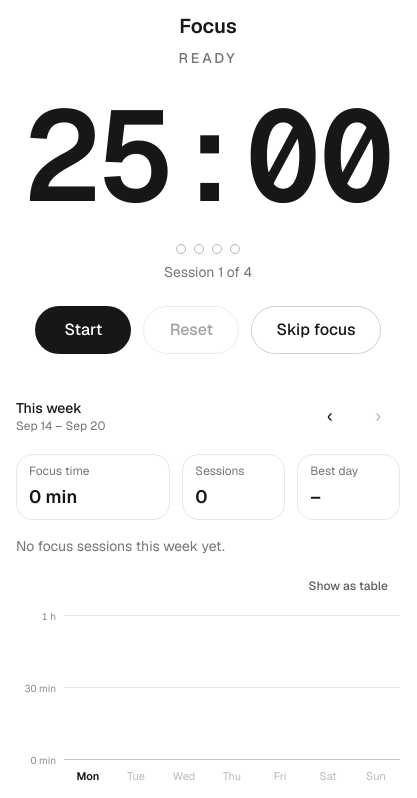
Test case: running › counts down once started, with the time in the tab title
Click the button "Start". click: (83, 330)
box: 35,306 -> 131,354
Wait 90000 ms
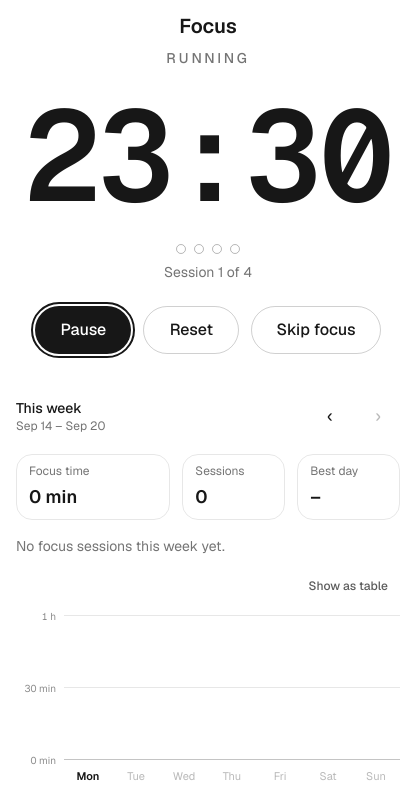
Check: the text "23:30" is shown, box 24,92 -> 392,220
Check: the text "Running" is shown, box 166,48 -> 250,68
